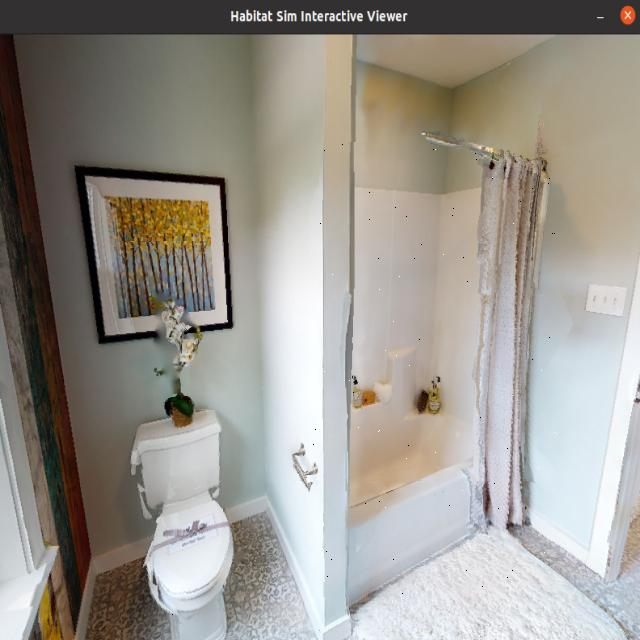shower: (310, 142, 560, 597)
toilet: (118, 405, 261, 640)
